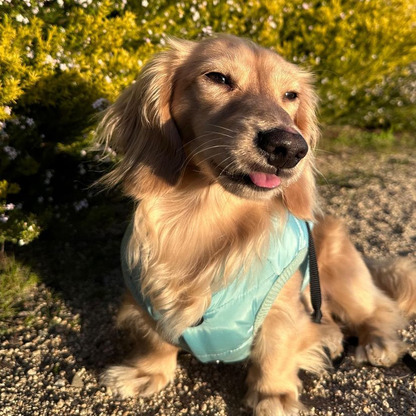dachshund: (84, 29, 363, 374)
